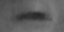LeftEyeFatigue: (9, 4, 54, 32)
